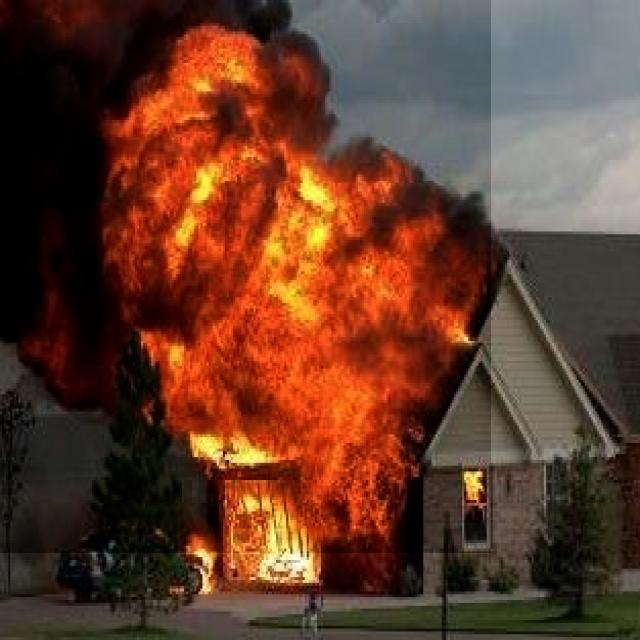Fire: (0, 0, 491, 553)
